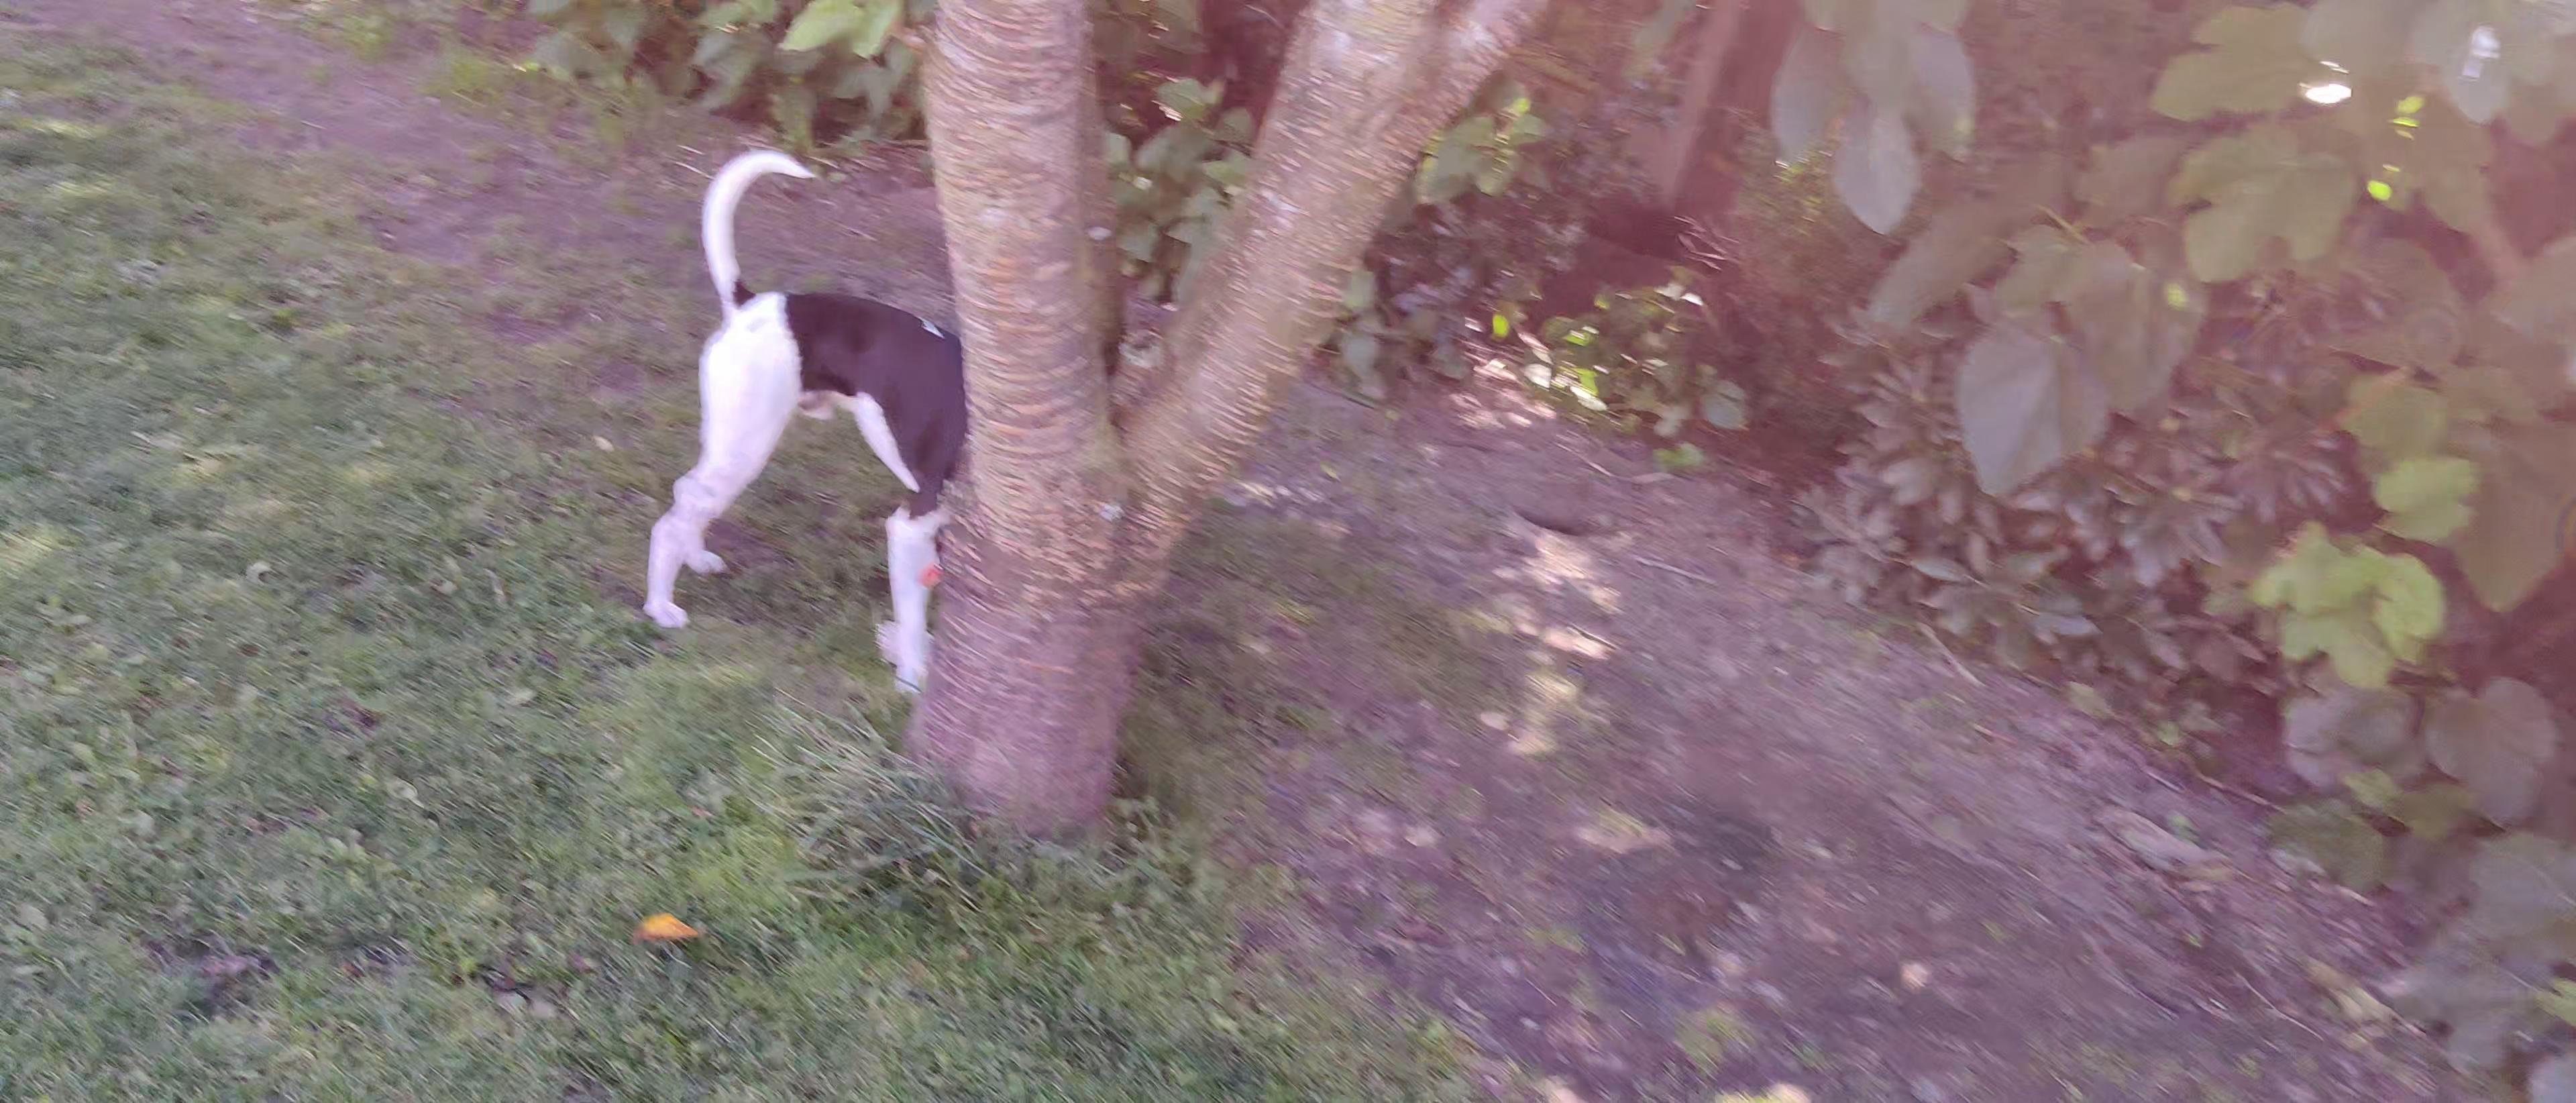Dog: (623, 133, 1097, 710)
